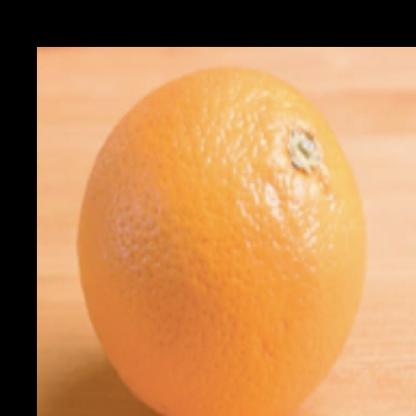fresh: (78, 70, 366, 416)
